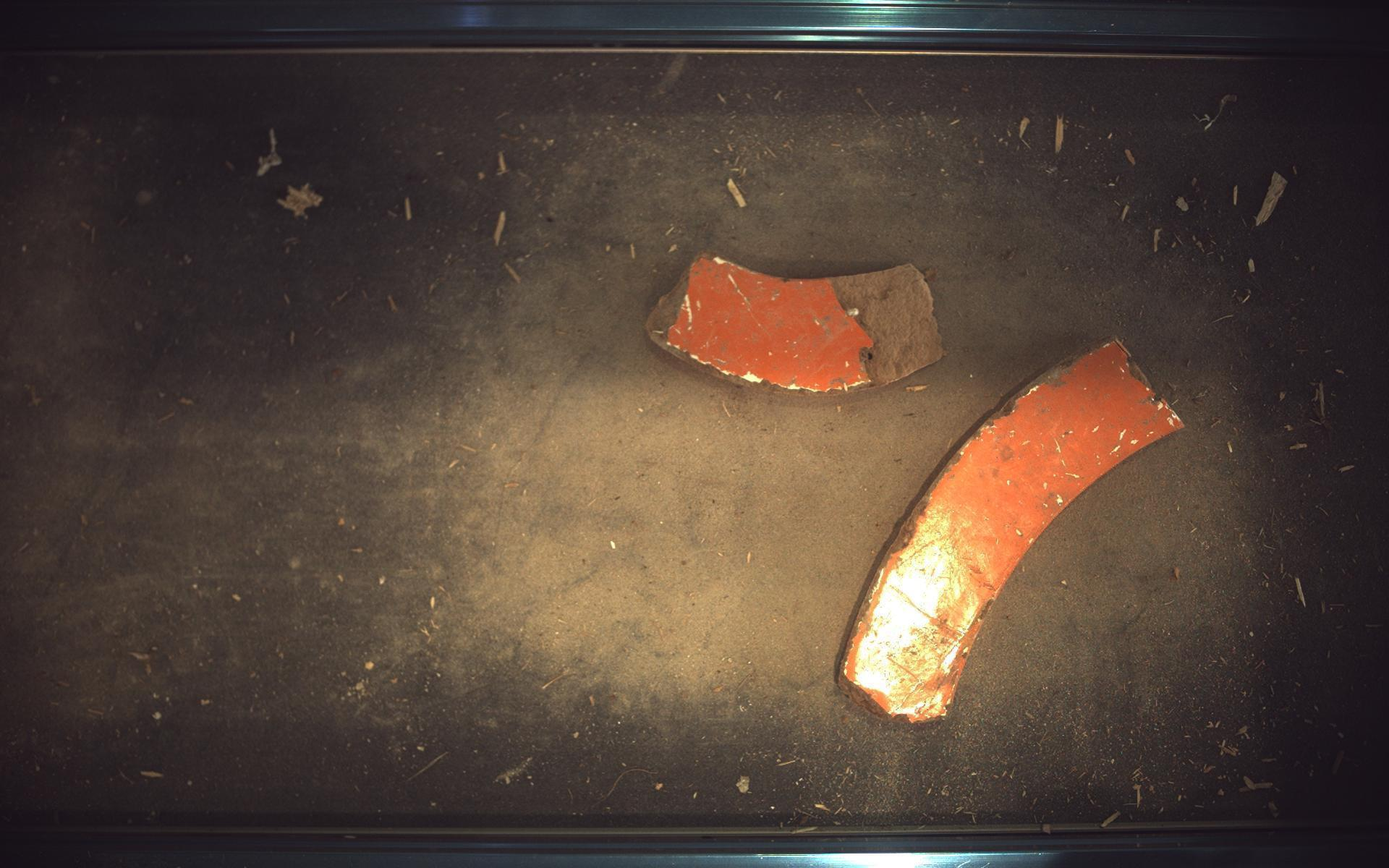wood: (841, 340, 1184, 723), (647, 252, 946, 393)
